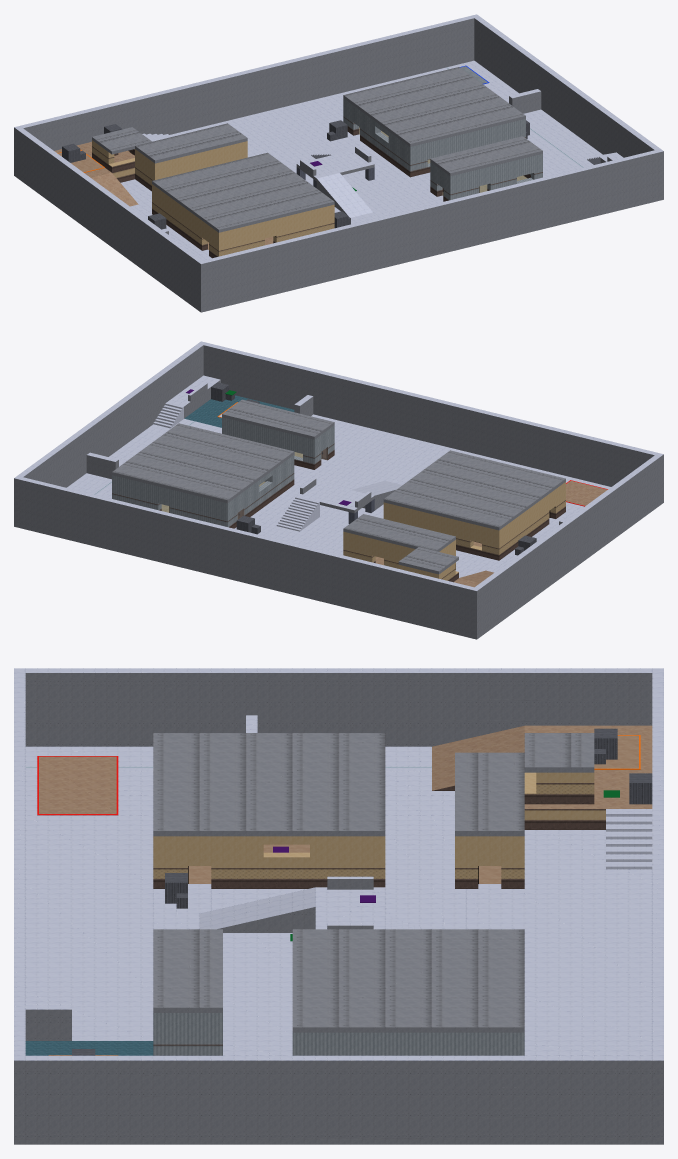
Rendered from arena_liminal.obj.
The picture shows the model from 3 angles, top to bottom: view 1: azimuth 30°, elevation 25°; view 2: azimuth 150°, elevation 25°; view 3: azimuth 270°, elevation 25°; orthographic projection. The views are drawn at different scales.
Visible parts, largest first — view 1: wall_s, wall_n, ground, wall_w, roof_store, roof_workshop, wall_e, roof_se, roof_nw, store_spawn_side_2, store_lane_end_2, deck_ramp (+13 smaller); view 2: wall_n, wall_s, ground, wall_w, roof_workshop, roof_store, wall_e, roof_se, roof_nw, workshop_spawn_side_0, store_lane_end_2, workshop_spawn_side_2 (+14 smaller); view 3: ground, wall_e, wall_w, roof_workshop, roof_store, roof_nw, roof_se, wall_n, wall_s, plateau, spawn_attack, workshop_lane_end_0 (+16 smaller).
Boxes of the visible parts, left/top/right/bottom form: wall_s: left=197, top=149, right=663, bottom=306; wall_n: left=14, top=14, right=479, bottom=171; ground: left=14, top=60, right=663, bottom=312; wall_w: left=17, top=128, right=202, bottom=303; roof_store: left=152, top=152, right=334, bottom=232; roof_workshop: left=343, top=67, right=525, bottom=146; wall_e: left=474, top=17, right=660, bottom=157; roof_se: left=430, top=136, right=542, bottom=176; roof_nw: left=135, top=123, right=247, bottom=163; store_spawn_side_2: left=273, top=204, right=334, bottom=243; store_lane_end_2: left=155, top=186, right=207, bottom=250; deck_ramp: left=316, top=173, right=372, bottom=217; wall_n: left=14, top=476, right=480, bottom=633; wall_s: left=198, top=341, right=663, bottom=498; ground: left=14, top=395, right=663, bottom=639; wall_w: left=475, top=455, right=660, bottom=630; roof_workshop: left=112, top=423, right=294, bottom=503; roof_store: left=383, top=450, right=565, bottom=530; wall_e: left=17, top=344, right=203, bottom=487; roof_se: left=222, top=399, right=334, bottom=439; roof_nw: left=343, top=514, right=455, bottom=551; workshop_spawn_side_0: left=169, top=489, right=230, bottom=527; store_lane_end_2: left=502, top=494, right=549, bottom=557; workshop_spawn_side_2: left=112, top=475, right=161, bottom=510; ground: left=14, top=746, right=663, bottom=1144; wall_e: left=25, top=1055, right=652, bottom=1134; wall_w: left=25, top=668, right=652, bottom=746; roof_workshop: left=292, top=929, right=524, bottom=1032; roof_store: left=153, top=733, right=385, bottom=836; roof_nw: left=455, top=752, right=524, bottom=836; roof_se: left=153, top=929, right=222, bottom=1012; wall_n: left=652, top=668, right=663, bottom=1134; wall_s: left=14, top=668, right=25, bottom=1134; plateau: left=524, top=725, right=652, bottom=829; spawn_attack: left=37, top=756, right=118, bottom=815; workshop_lane_end_0: left=304, top=1032, right=466, bottom=1055.
Bounding box in the file's own units: 80 × 8 × 56.
Materials: 29 (23 with a texture image).
